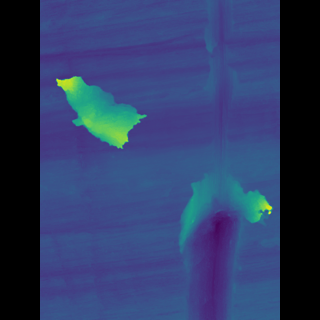Loch: (170, 0, 244, 320), (87, 70, 146, 156)
